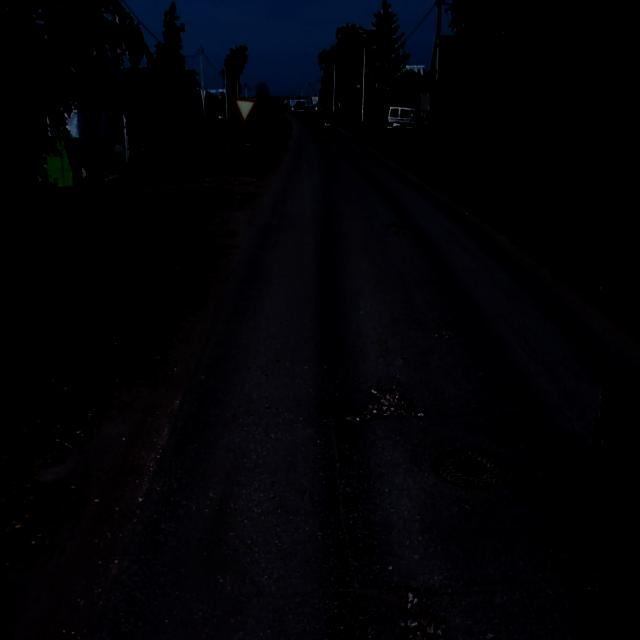road: (95, 112, 639, 639)
